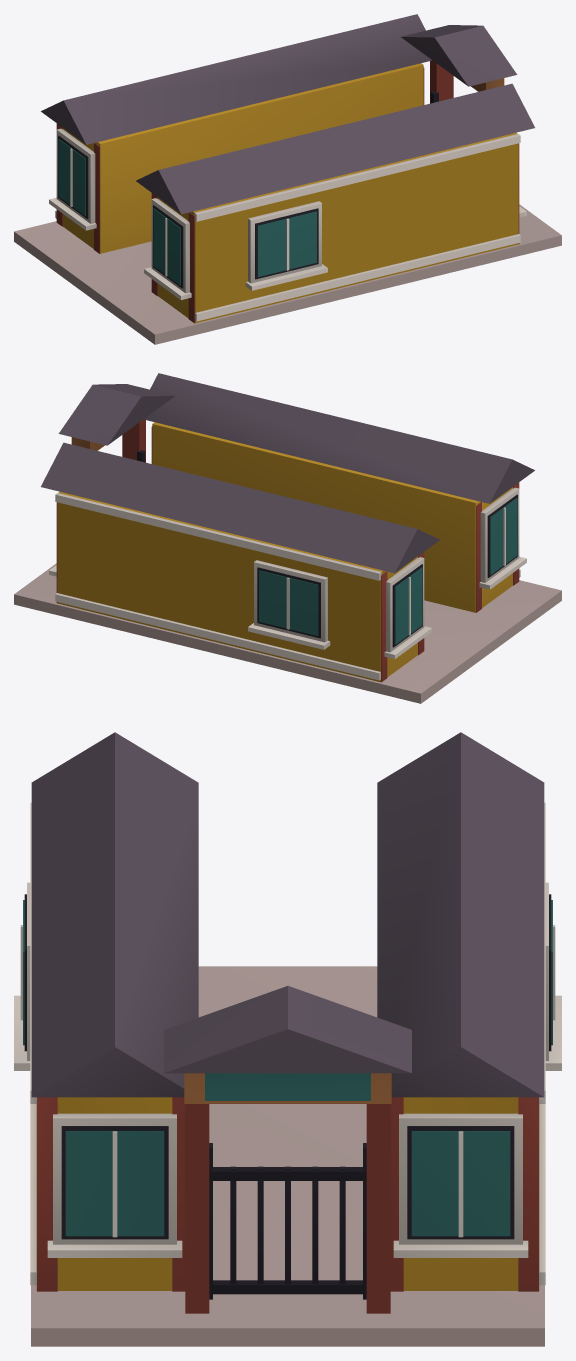
File: bld.zoo-gate.lod2.glb
3 views of the same model, one above another, from view 1: azimuth 30°, elevation 25°; view 2: azimuth 150°, elevation 25°; view 3: azimuth 270°, elevation 25° (orthographic). The views are drawn at different scales.
Visible parts, largest first — view 1: body, roof; view 2: body, roof; view 3: body, roof.
Boxes of the visible parts, x1,y1,x2,y2 form: body: (14, 60, 561, 344); roof: (41, 14, 534, 214); body: (14, 419, 561, 703); roof: (41, 373, 534, 573); body: (14, 802, 561, 1346); roof: (31, 732, 544, 1097).
Bounding box in the file's own units: 10 × 4 × 6.4.
